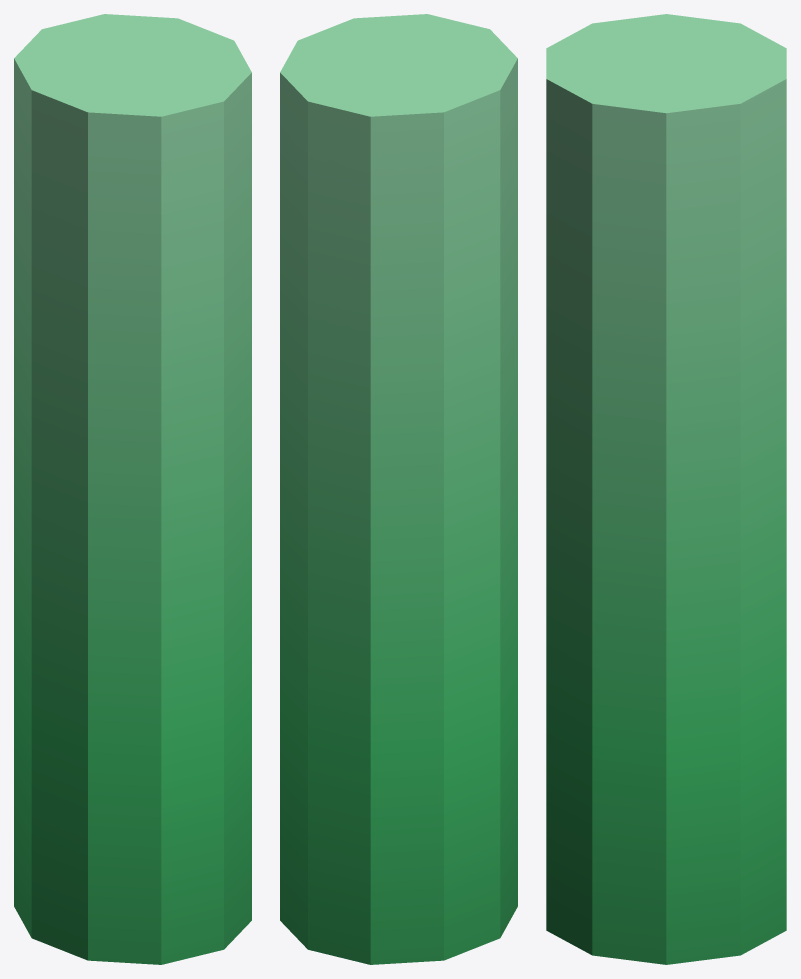
File: Grip_One.fbx
The picture shows the model from 3 angles, left to right: view 1: azimuth 30°, elevation 25°; view 2: azimuth 150°, elevation 25°; view 3: azimuth 270°, elevation 25°; orthographic projection.
Visible parts, largest first — view 1: Grip_One; view 2: Grip_One; view 3: Grip_One.
Boxes of the visible parts, x1,y1,x2,y2 form: Grip_One: (14, 14, 251, 964); Grip_One: (280, 14, 517, 964); Grip_One: (546, 14, 786, 964).
Size of the model in its own units: 0.75 by 3 by 0.7662.
